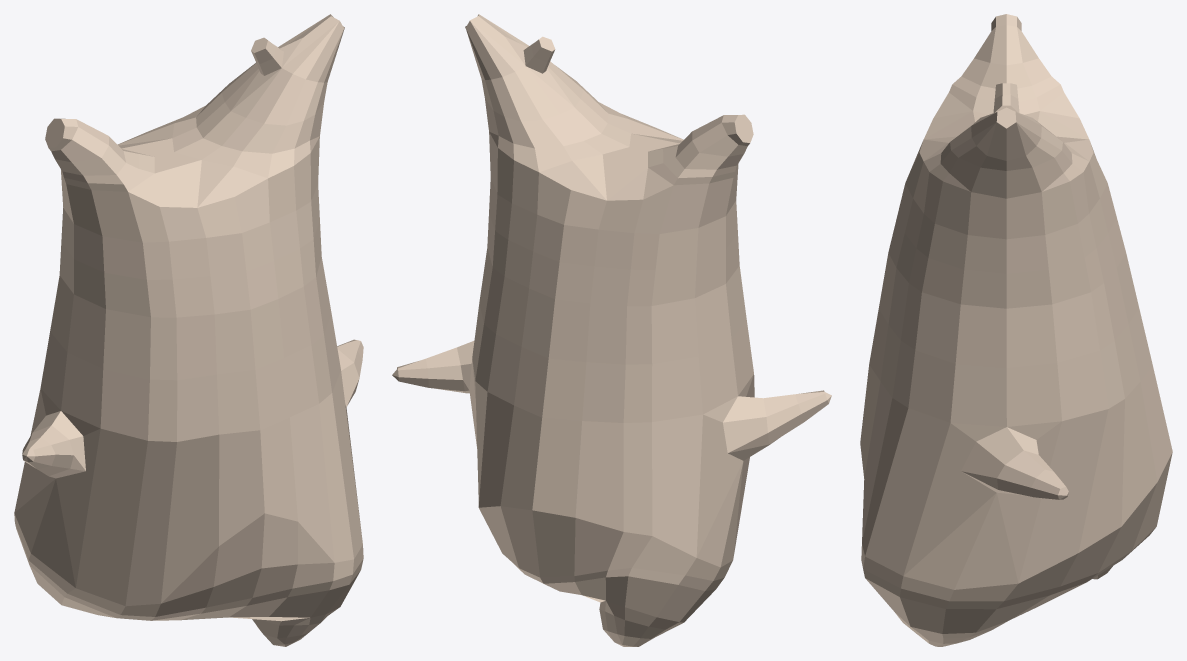
File: frame_0008.obj
3 renders of one model, left to right at view 1: azimuth 30°, elevation 25°; view 2: azimuth 150°, elevation 25°; view 3: azimuth 270°, elevation 25°, orthographic. The views are drawn at different scales.
Parts seen in each view (by area): view 1: korok; view 2: korok; view 3: korok.
Part boxes in pixels (x1,y1,x2,y2): korok: (14, 14, 363, 646); korok: (392, 14, 831, 646); korok: (860, 14, 1172, 646).
Size of the model in its own units: 1.52 by 2.15 by 1.06.
